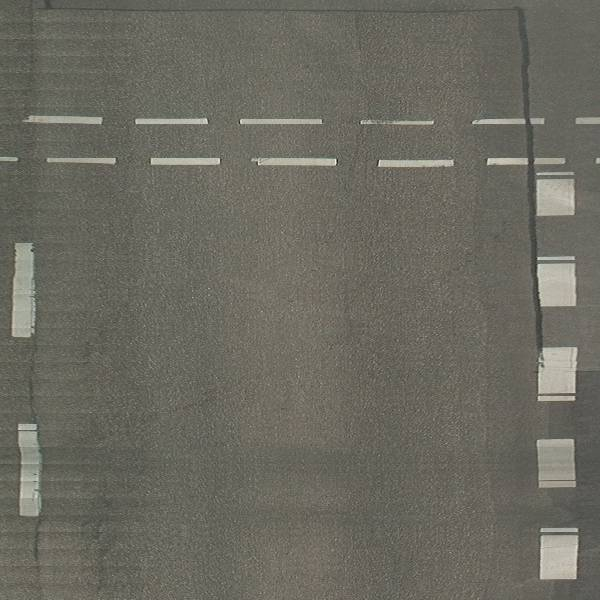road_damage: (76, 501, 124, 594)
